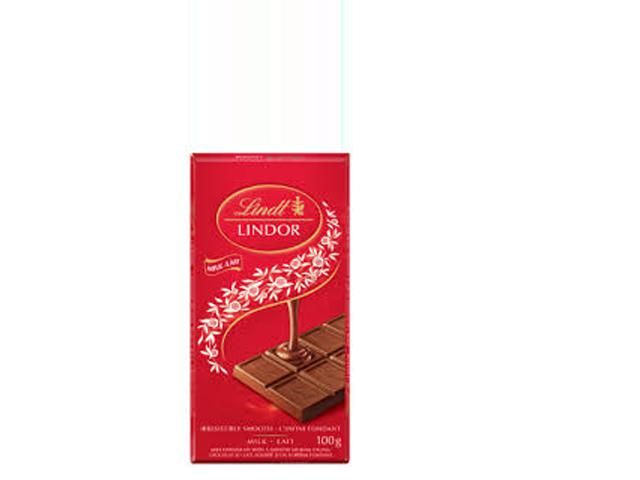chocolate: (182, 153, 365, 460)
